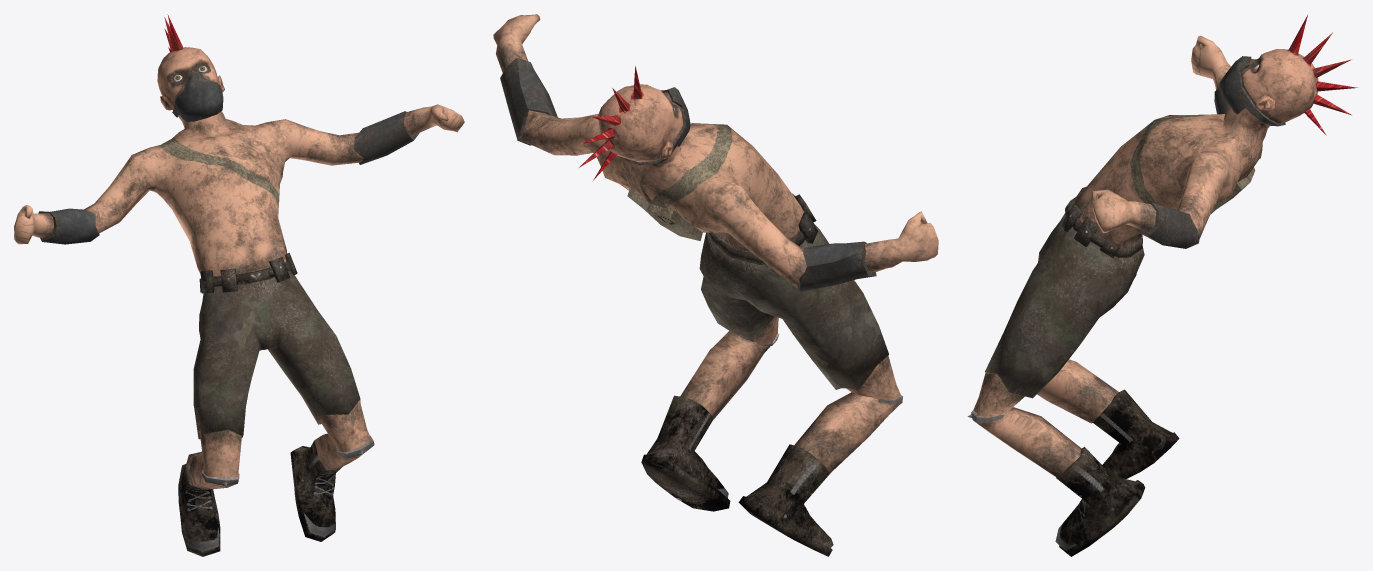
The model's file is Anim_morir_1_npc2.0019.obj.
3 views of the same model, side by side, from view 1: azimuth 30°, elevation 25°; view 2: azimuth 150°, elevation 25°; view 3: azimuth 270°, elevation 25° (orthographic). The views are drawn at different scales.
Visible parts, largest first — view 1: polySurface1; view 2: polySurface1; view 3: polySurface1.
Boxes of the visible parts, x1,y1,x2,y2 form: polySurface1: (14, 14, 464, 556); polySurface1: (493, 14, 938, 556); polySurface1: (967, 15, 1357, 556).
Bounding box in the file's own units: 7.46 × 8.05 × 5.57.
